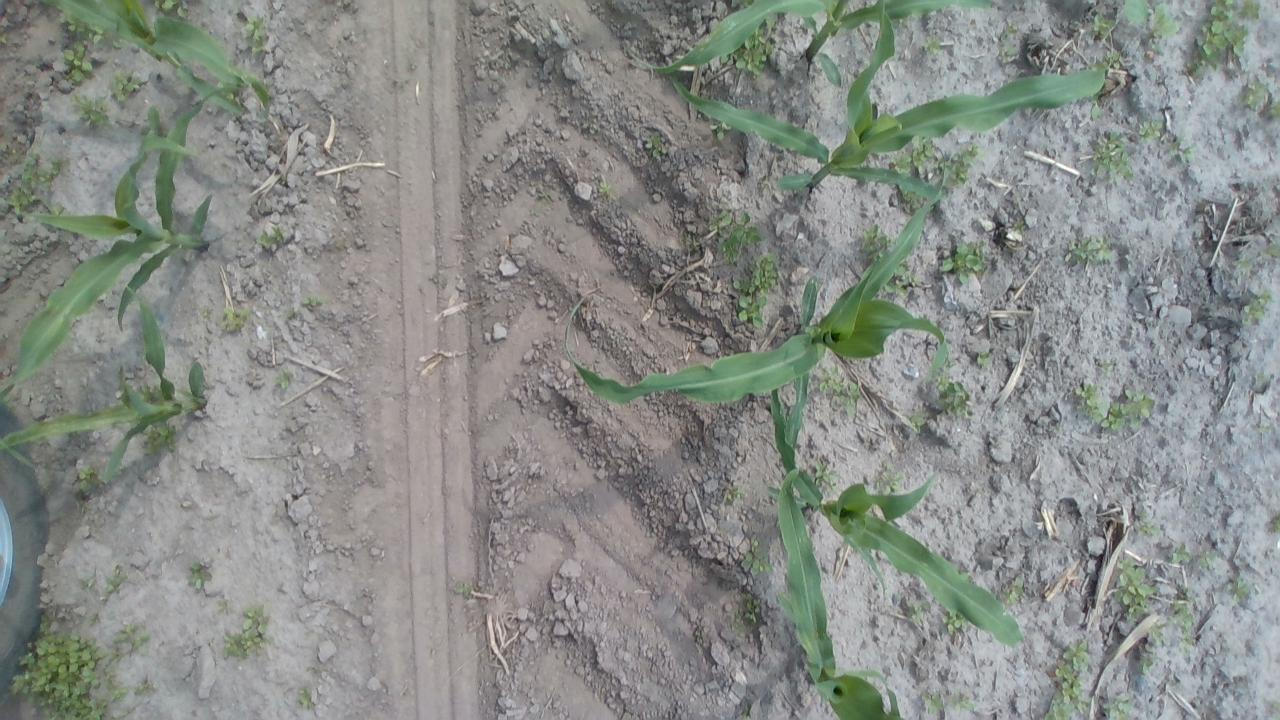Maize: (563, 175, 949, 435), (666, 0, 1108, 200), (766, 382, 1026, 646), (2, 89, 214, 401), (1, 286, 208, 486), (766, 466, 906, 720), (635, 2, 1002, 88), (42, 0, 274, 117)
Weeds: (4, 620, 128, 720), (1191, 1, 1256, 74), (8, 144, 71, 216), (1045, 640, 1094, 720), (732, 256, 778, 330), (721, 22, 775, 78), (220, 604, 272, 660), (1114, 558, 1155, 622), (1089, 128, 1135, 184), (709, 211, 760, 259), (1101, 388, 1156, 432), (937, 238, 986, 284), (818, 372, 864, 417), (1238, 74, 1280, 121), (890, 134, 936, 176), (941, 139, 979, 187), (1172, 586, 1200, 648), (1064, 238, 1116, 266), (932, 374, 969, 412), (919, 690, 975, 715), (70, 94, 111, 128), (1072, 380, 1104, 422), (732, 592, 762, 636), (740, 534, 770, 578), (861, 222, 894, 262), (138, 422, 178, 454), (1150, 1, 1181, 42), (62, 42, 93, 82), (61, 15, 106, 42), (884, 266, 924, 296), (810, 456, 840, 494), (111, 68, 143, 102), (242, 15, 270, 53), (116, 621, 148, 654), (74, 463, 106, 494), (100, 565, 126, 601), (1242, 289, 1270, 322), (185, 558, 212, 592), (902, 600, 931, 630), (1100, 693, 1132, 720), (1224, 575, 1252, 605), (219, 304, 247, 334), (1090, 49, 1128, 71), (1002, 576, 1028, 606), (259, 224, 288, 250), (1090, 13, 1116, 42), (940, 610, 970, 635), (644, 132, 670, 160), (1120, 1, 1152, 23), (1171, 136, 1195, 165), (1138, 116, 1164, 141), (879, 466, 902, 494), (1166, 541, 1192, 565), (720, 482, 746, 505), (154, 1, 188, 18), (1136, 518, 1162, 540), (921, 34, 946, 56), (1147, 620, 1168, 646), (296, 684, 316, 710), (1195, 547, 1218, 569), (708, 120, 732, 141), (1238, 0, 1263, 20), (449, 580, 476, 598), (1006, 216, 1028, 238), (902, 189, 922, 213), (1138, 650, 1159, 672), (300, 292, 324, 311), (274, 370, 296, 390), (1234, 255, 1253, 278), (974, 348, 994, 369), (139, 384, 161, 403), (908, 409, 926, 432), (998, 25, 1016, 48), (1252, 371, 1272, 390), (1259, 242, 1280, 260), (134, 680, 156, 696), (1096, 357, 1117, 373), (596, 179, 612, 199), (583, 120, 601, 137), (282, 306, 299, 324), (200, 304, 212, 322), (1090, 98, 1100, 118), (1270, 516, 1280, 535), (82, 576, 95, 589), (960, 571, 968, 580)
